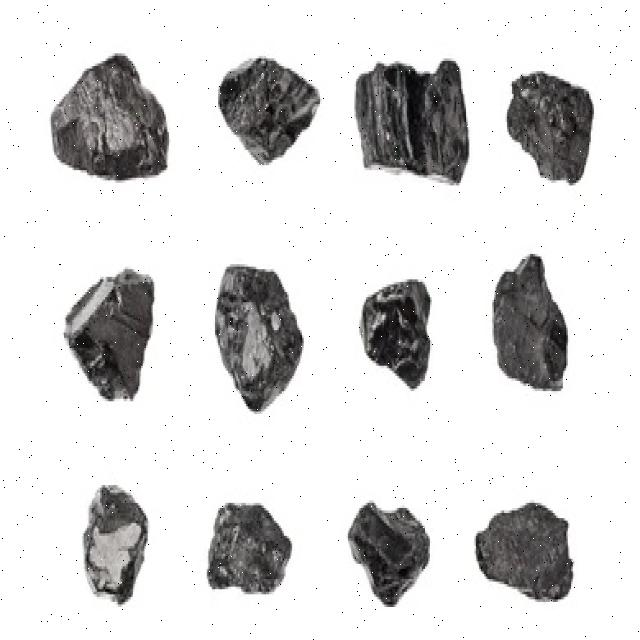Sedimentary: (49, 48, 181, 196), (484, 241, 594, 409), (348, 46, 474, 190), (207, 256, 308, 422), (61, 264, 174, 404), (506, 53, 600, 221), (351, 256, 442, 422), (208, 51, 320, 175), (468, 488, 581, 610), (62, 470, 162, 599), (204, 482, 300, 610), (344, 492, 444, 614)
